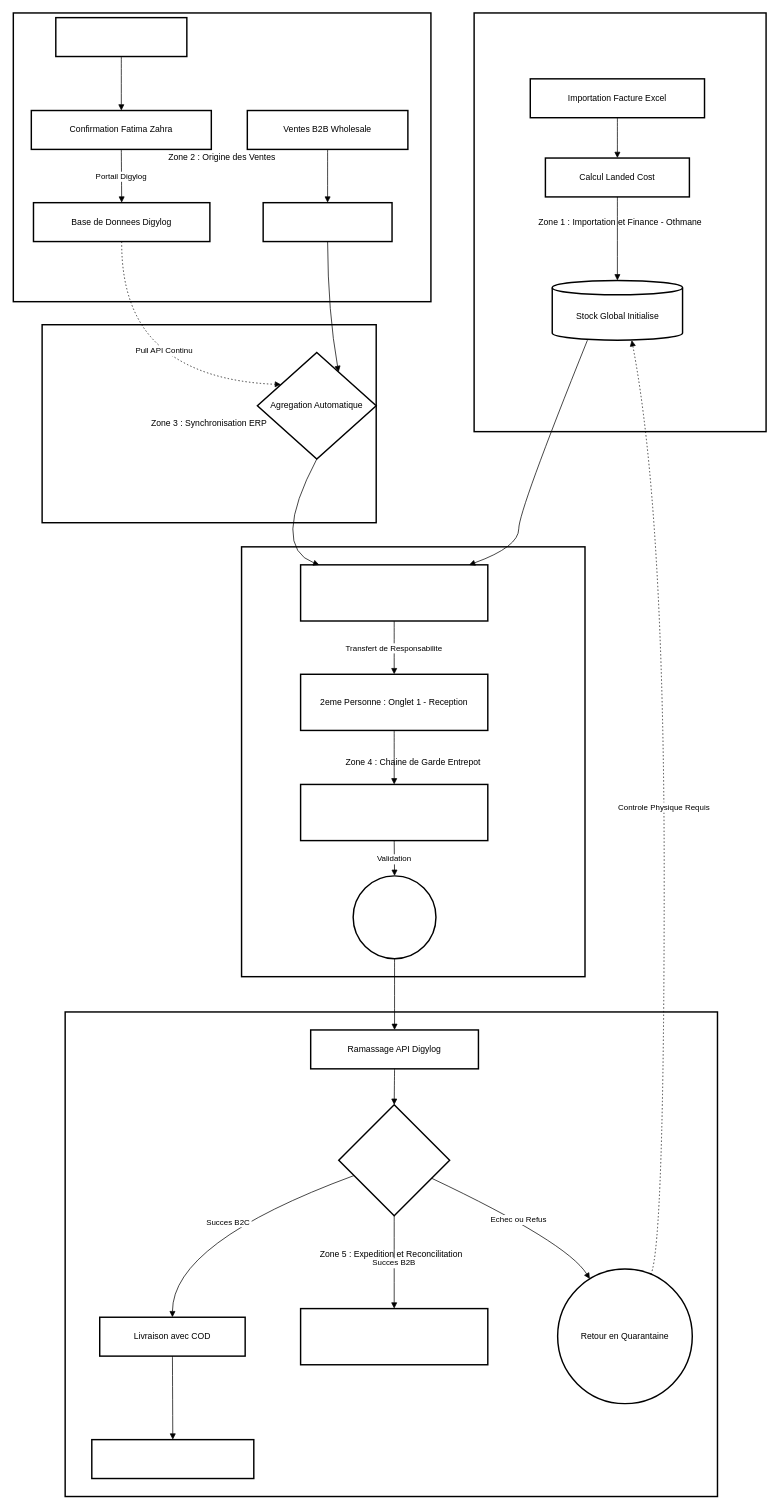
The diagram is 779 pixels wide and 1510 high, and some of its shapes have lost their labels. Each missing label, with the centre of its shape:
2eme Personne : Onglet 2 - Preparation Continue: (394,812)
Karime sort le stock principal: (394,592)
Livre de Caisse Karime: (172,1459)
Mehdi confirme methode et maniere de paiment: (394,1336)
Saisie par Mehdi: (327,222)
Statut : Prete: (394,917)
Statut Digylog: (394,1160)
Ventes B2C Web: (121,37)
